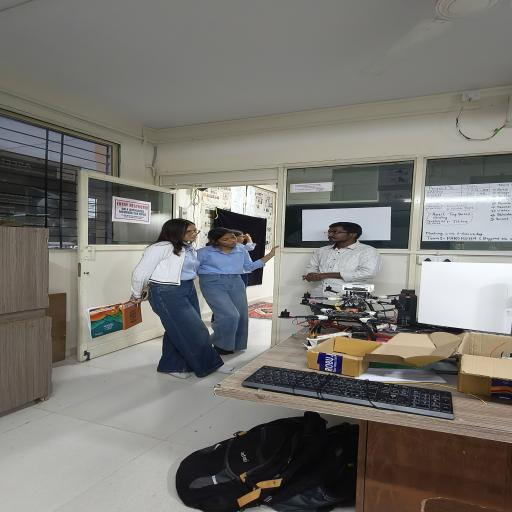survivor: (128, 218, 225, 380), (194, 227, 280, 355), (301, 222, 382, 300), (228, 229, 257, 288)
